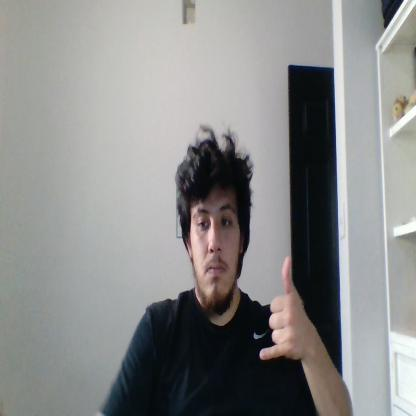Y: (259, 255, 306, 362)
